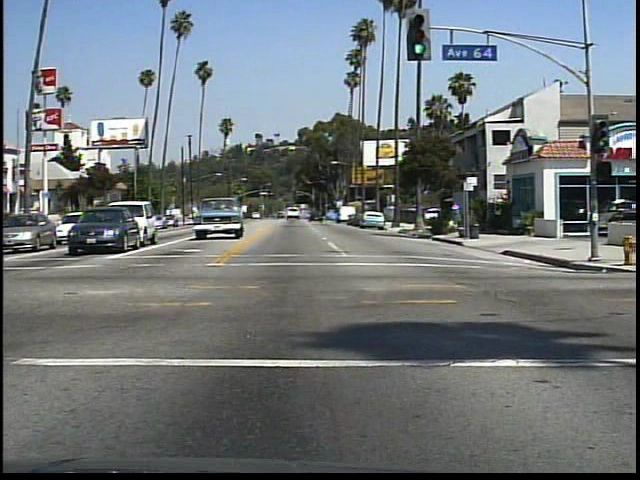person: (447, 200, 464, 236)
